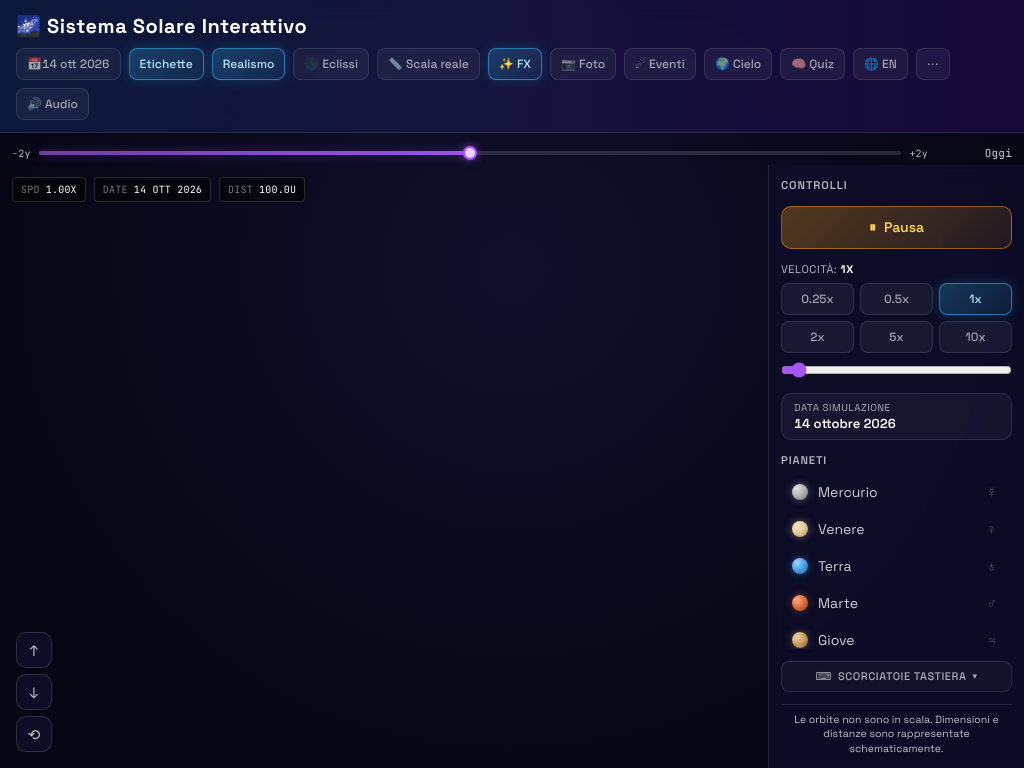
it: Flusso: apertura pannello → chiusura con Esc › seleziona Giove dalla sidebar, apre le info e le richiude con Esc
Click the button "Giove ♃". click: (894, 640)
box: left=781, top=623, right=1008, bottom=658
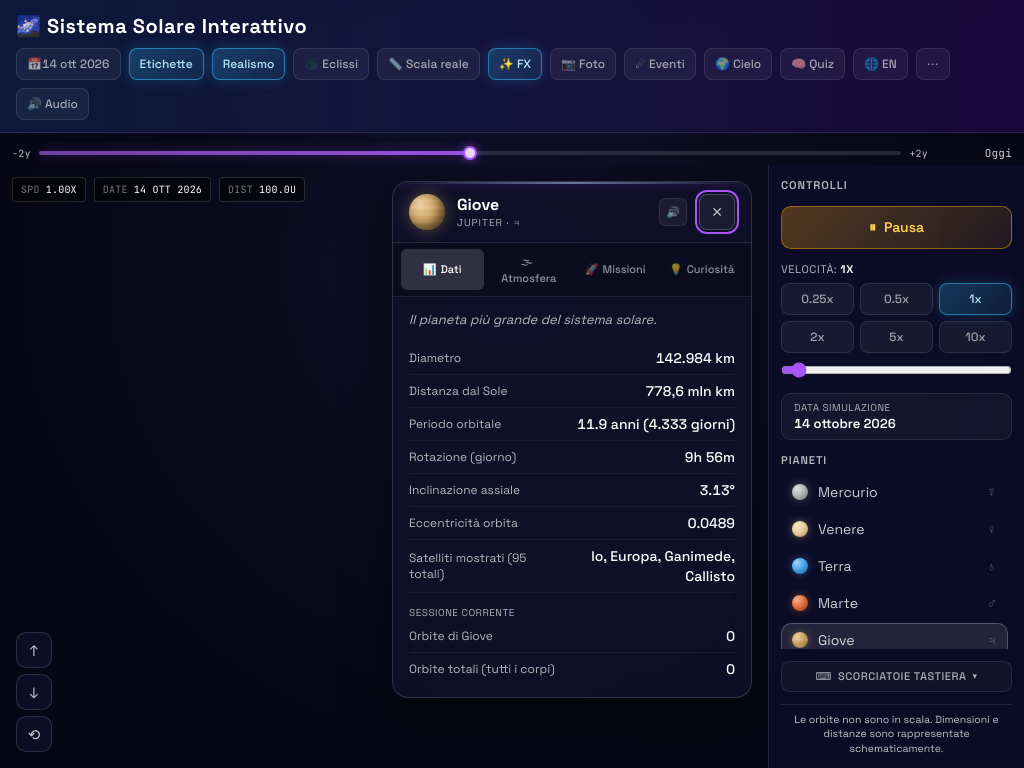
Expected: the dialog named "Informazioni su Giove" is shown, left=392, top=181, right=752, bottom=698
Note: Esc chiude il pannello e riporta alla vista libera
Press Escape
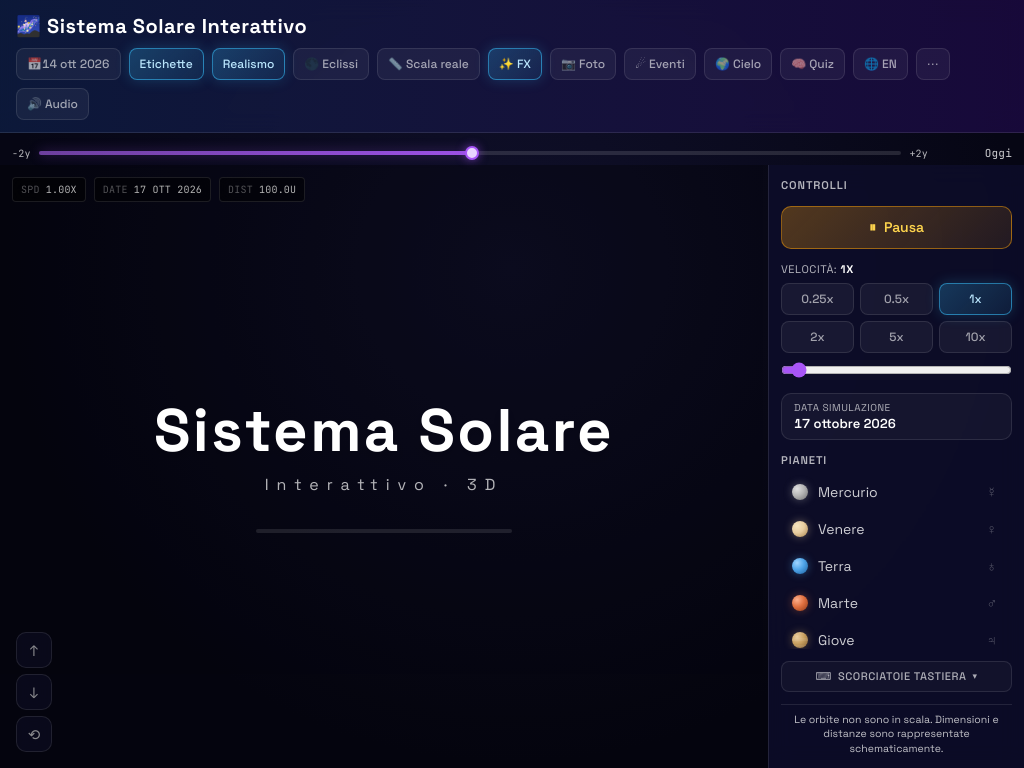
Expected: the dialog is gone
